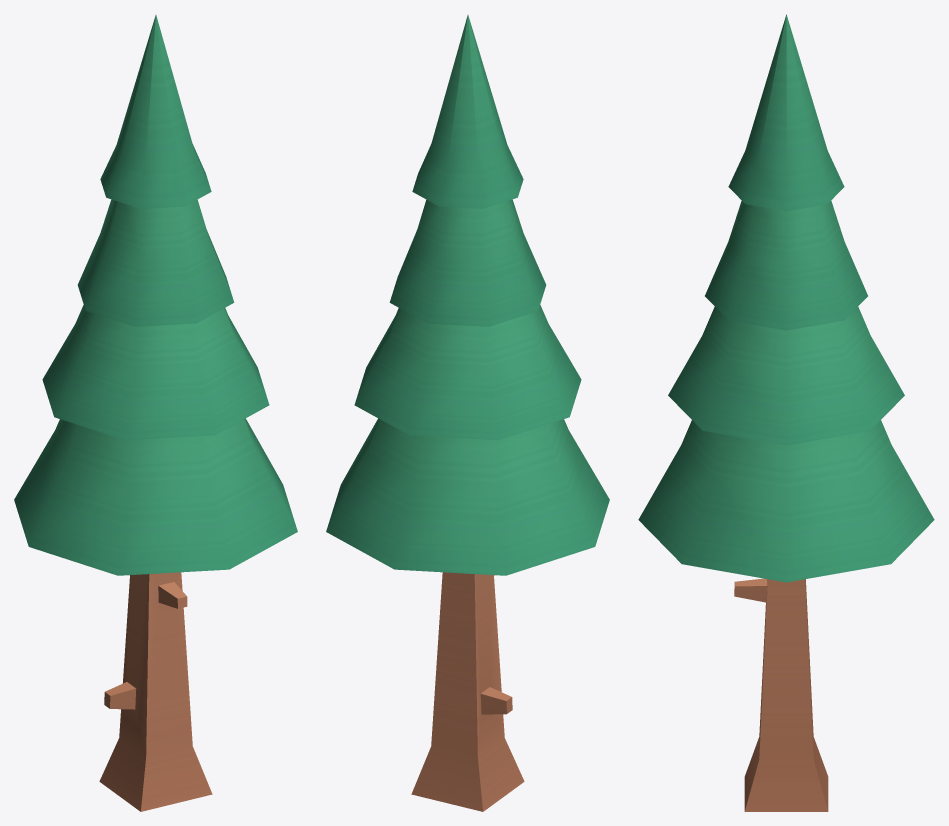
The model's file is tree-high.fbx.
3 views of the same model, side by side, from view 1: azimuth 30°, elevation 25°; view 2: azimuth 150°, elevation 25°; view 3: azimuth 270°, elevation 25° (orthographic).
Visible parts, largest first — view 1: tree-high; view 2: tree-high; view 3: tree-high.
Boxes of the visible parts, box(x1,y1,x2,y2) form: tree-high: box(14, 15, 297, 811); tree-high: box(326, 15, 609, 811); tree-high: box(638, 14, 934, 811).
Size of the model in its own units: 102 by 297 by 102.
1 material, 1 textured.
